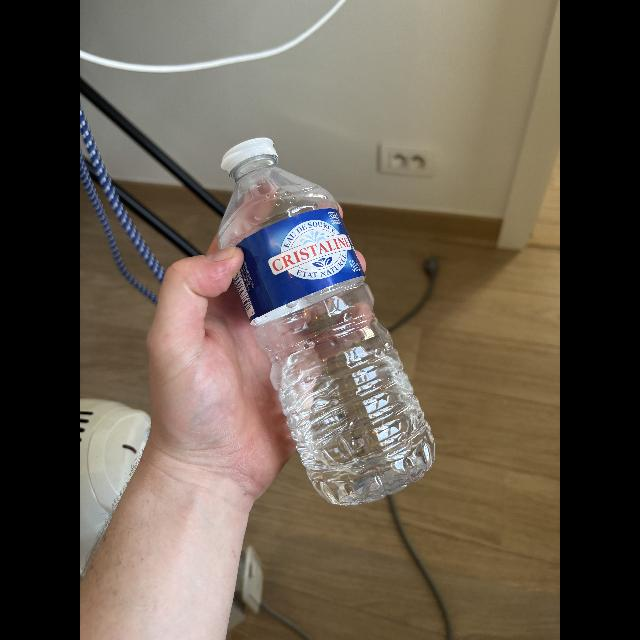Plastic: (222, 132, 436, 506)
